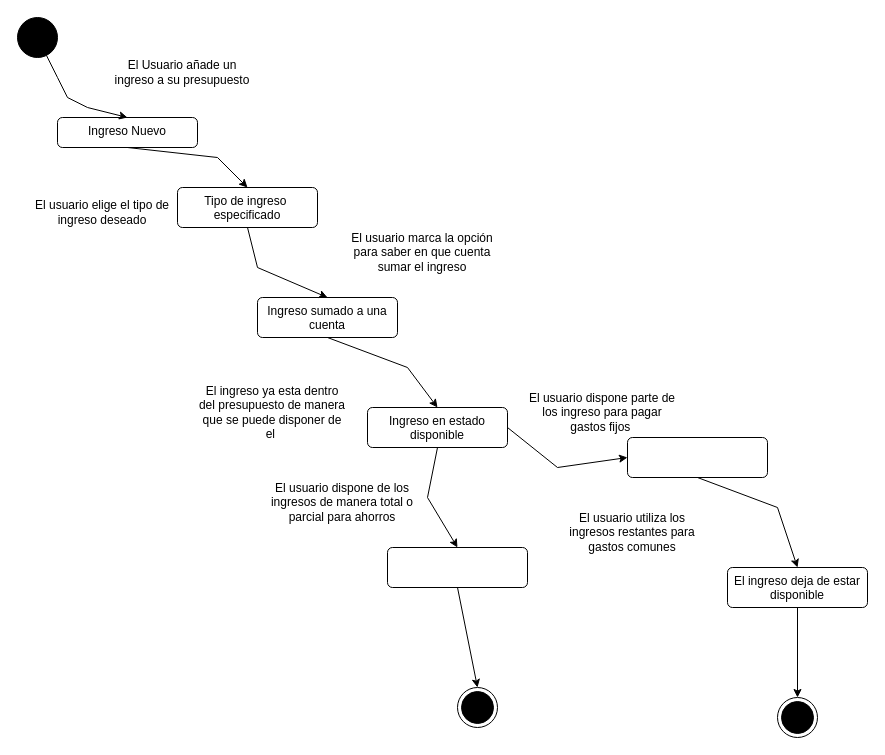
The diagram is 885 pixels wide and 755 high, and some of its shapes have lost their labels. Each missing label, with the centre of its shape:
"Ingreso en estado Ahorros" goes at (457,567).
"Se le debita parte del ingreso" goes at (697,457).
